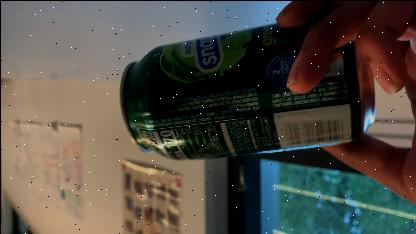Can: (110, 19, 382, 164)
